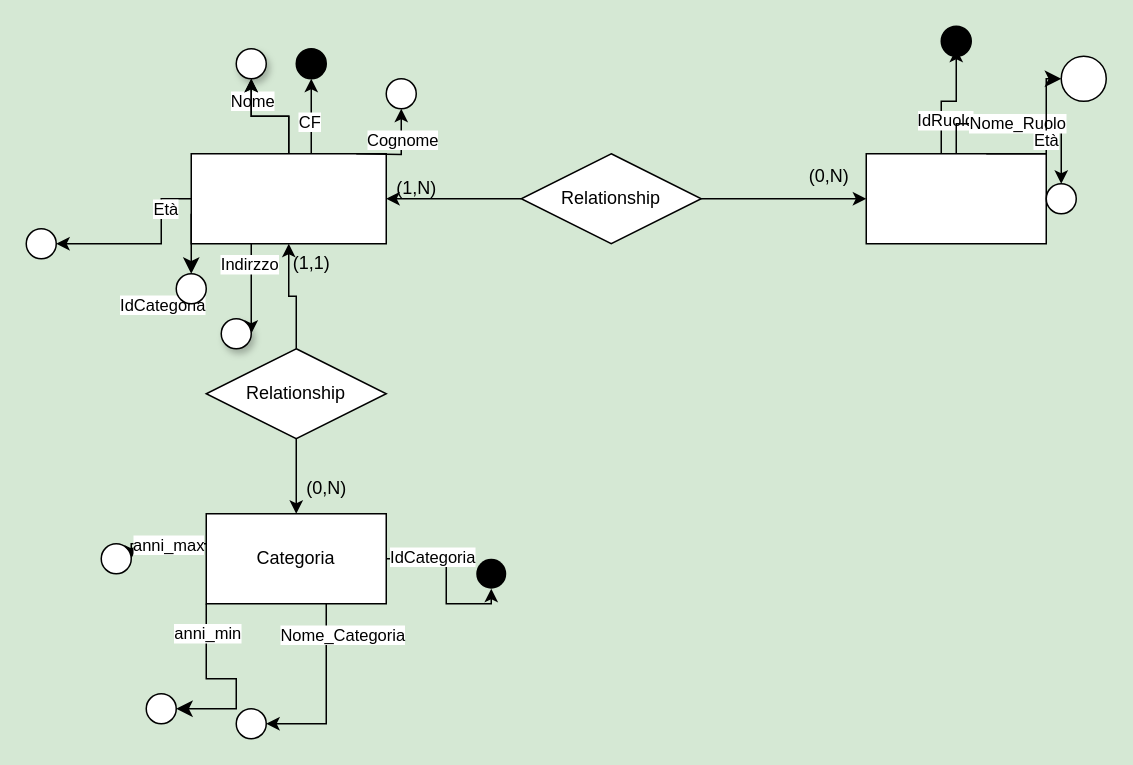
Some shapes in this 1133 by 765 pixel diagram are drawn without their labels. The shapes that lost their labels are listed below. From the top down, each one's centre as x and y in pixels, then its label:
point (288, 198): Giocatore
point (955, 198): Ruolo
